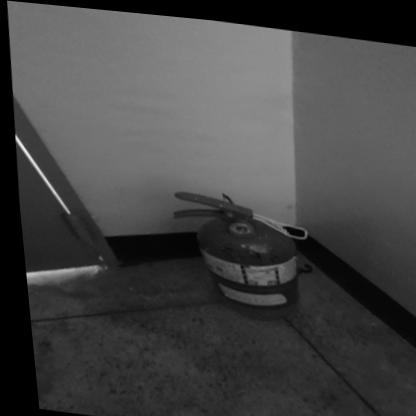FE: (163, 185, 298, 320)
